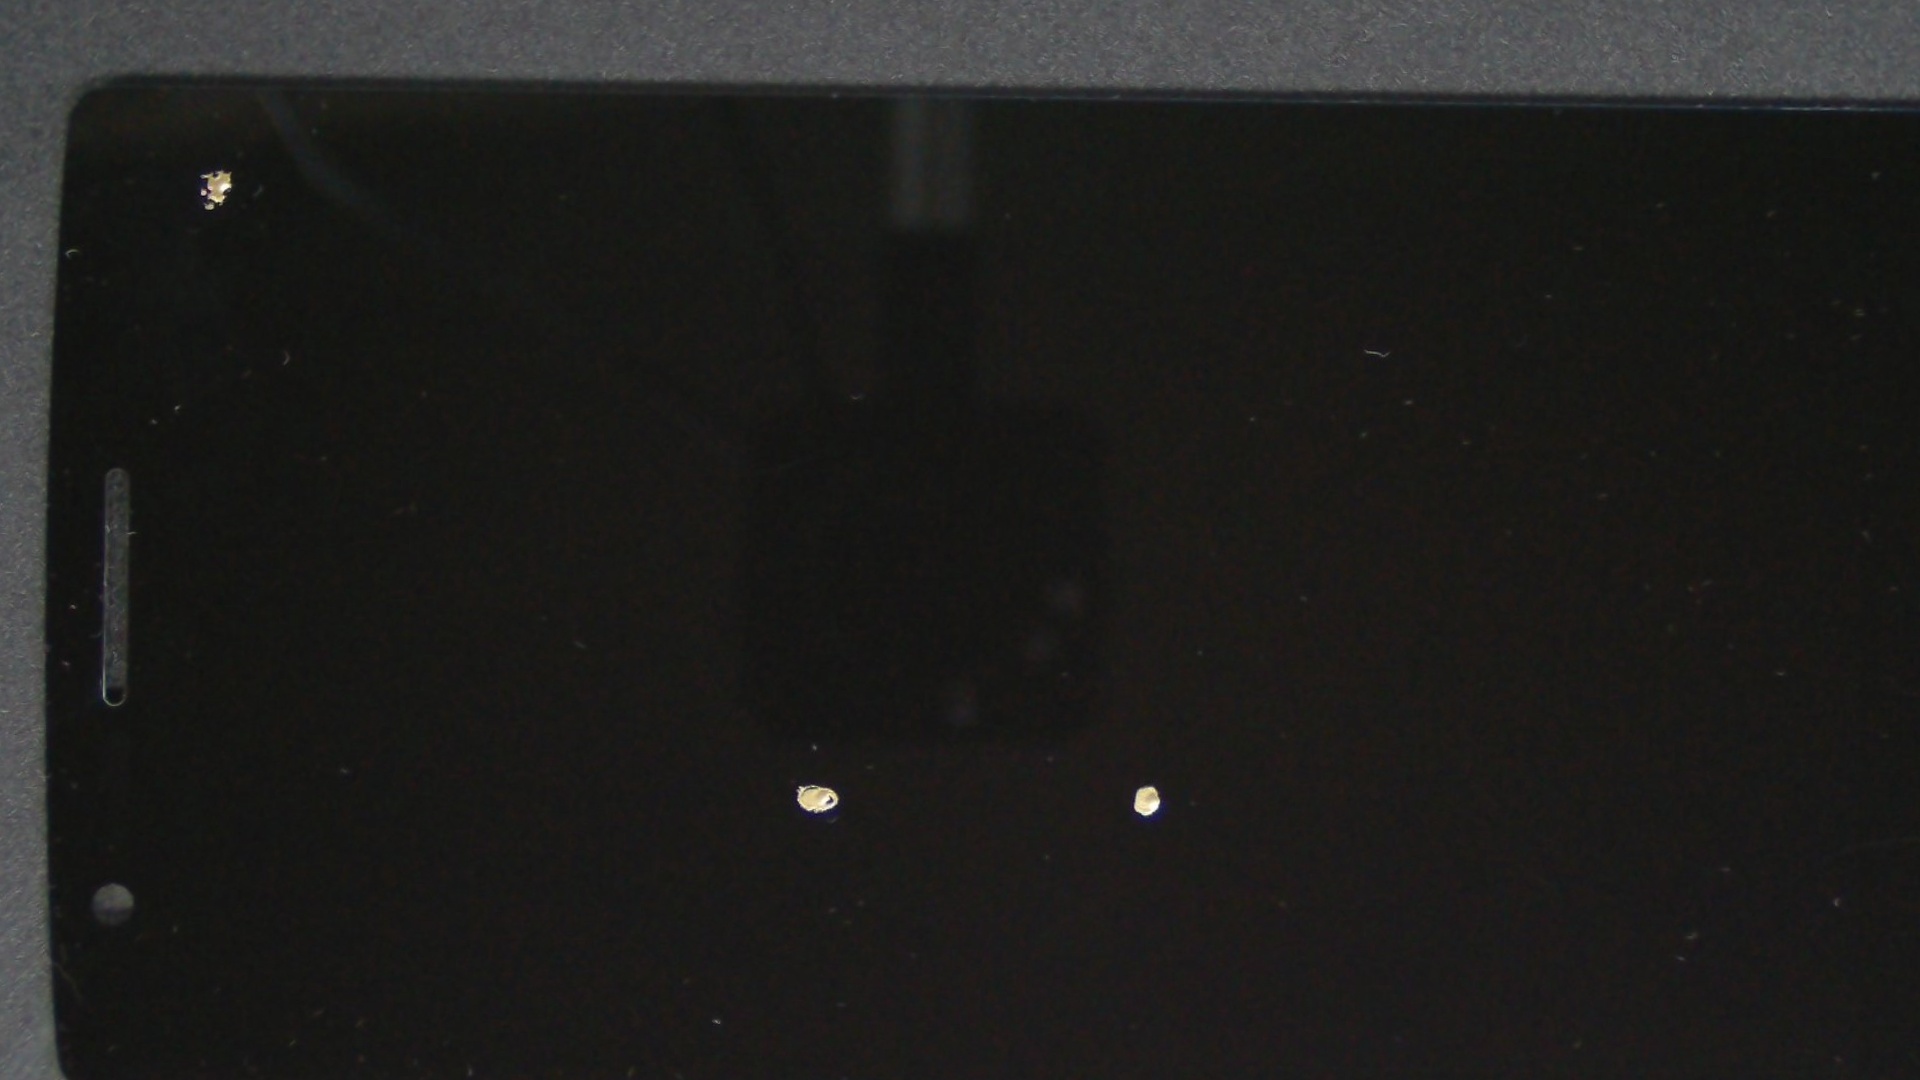oil: (529, 360, 1759, 1080), (957, 284, 1920, 959), (356, 360, 1244, 1080), (947, 136, 1920, 517), (76, 53, 357, 284)
